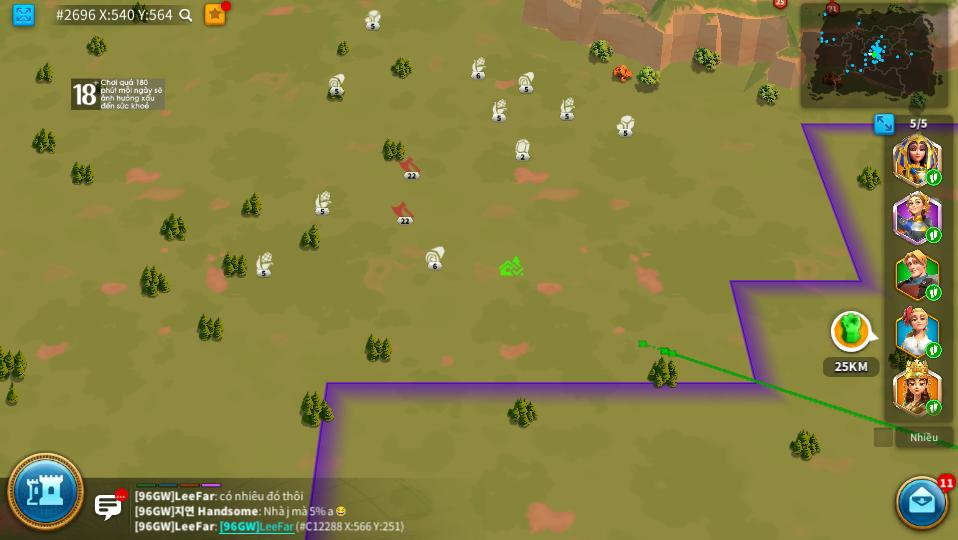gem-z-out: (515, 138, 530, 160)
march_marching: (927, 400, 941, 418), (927, 170, 942, 186), (927, 342, 941, 357), (928, 286, 941, 302), (928, 228, 940, 243)
